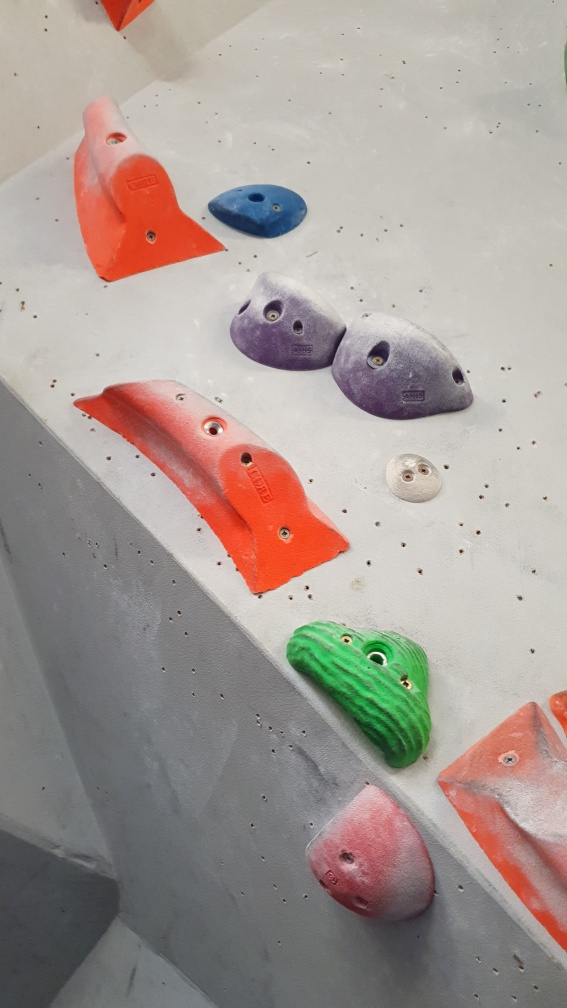Crimp: (204, 181, 310, 241)
Jug: (287, 613, 434, 772), (335, 309, 475, 420), (230, 270, 347, 372)
Pinch: (73, 376, 352, 600), (431, 696, 567, 955), (72, 94, 228, 289)
